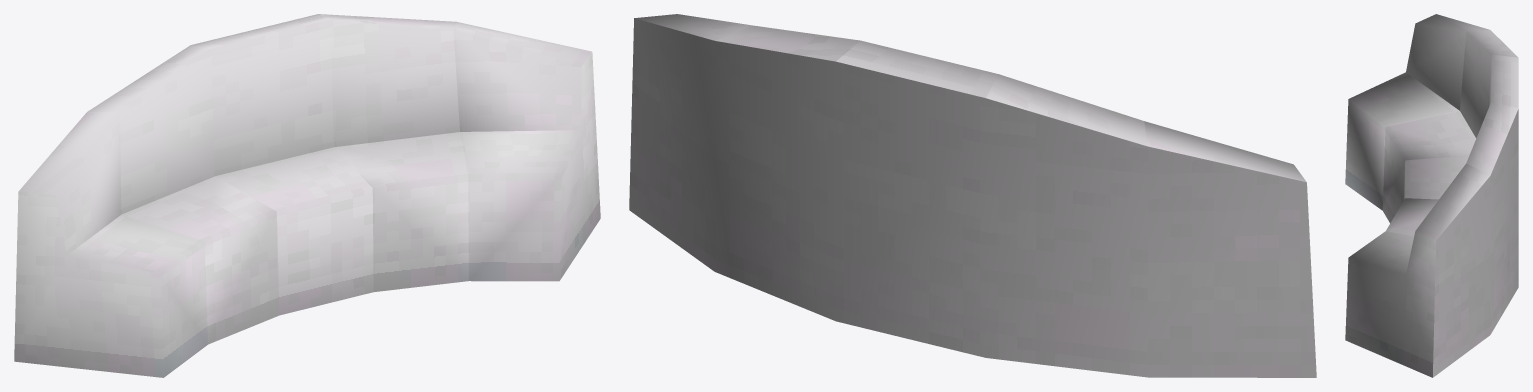
File: frn_all_mdrn_couch_s01_l3.fbx
3 views of the same model, side by side, from view 1: azimuth 30°, elevation 25°; view 2: azimuth 150°, elevation 25°; view 3: azimuth 270°, elevation 25° (orthographic). The views are drawn at different scales.
Visible parts, largest first — view 1: mesh_node; view 2: mesh_node; view 3: mesh_node.
Part boxes in pixels (x1,y1,x2,y2): mesh_node: (14, 14, 600, 377); mesh_node: (629, 14, 1316, 377); mesh_node: (1345, 14, 1518, 377).
Size of the model in its own units: 4.32 by 1.61 by 1.37.
